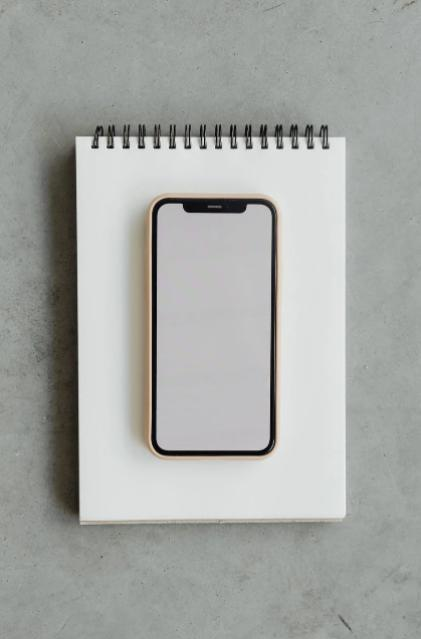mobile: (149, 193, 281, 459)
